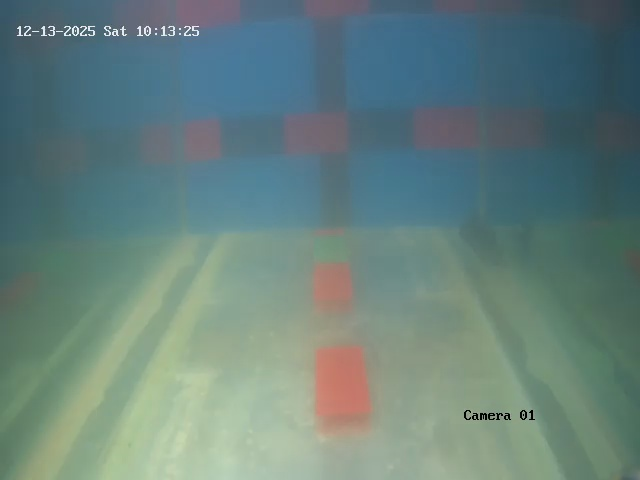fish: (458, 204, 502, 282)
